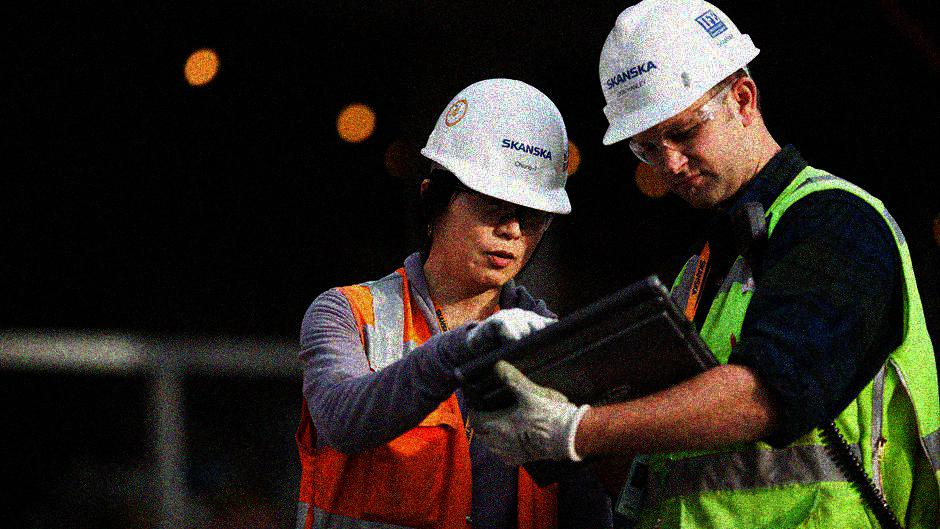helmet: (415, 73, 574, 294), (595, 1, 767, 205)
